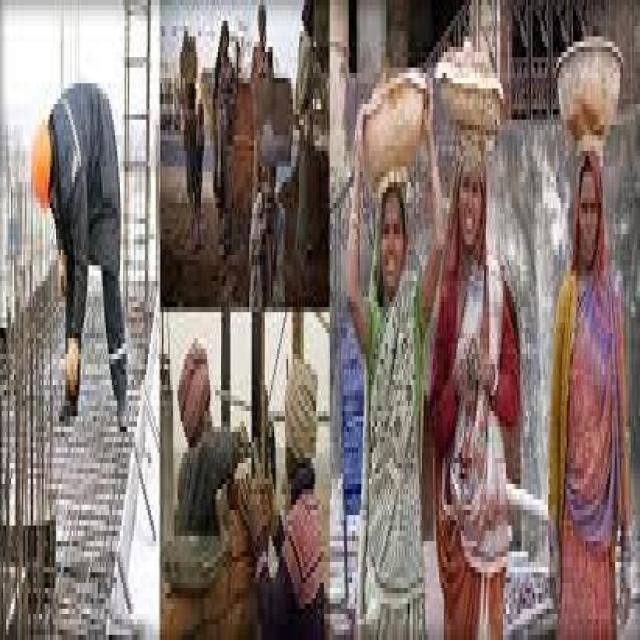Safety-Helmet: (25, 104, 54, 219)
